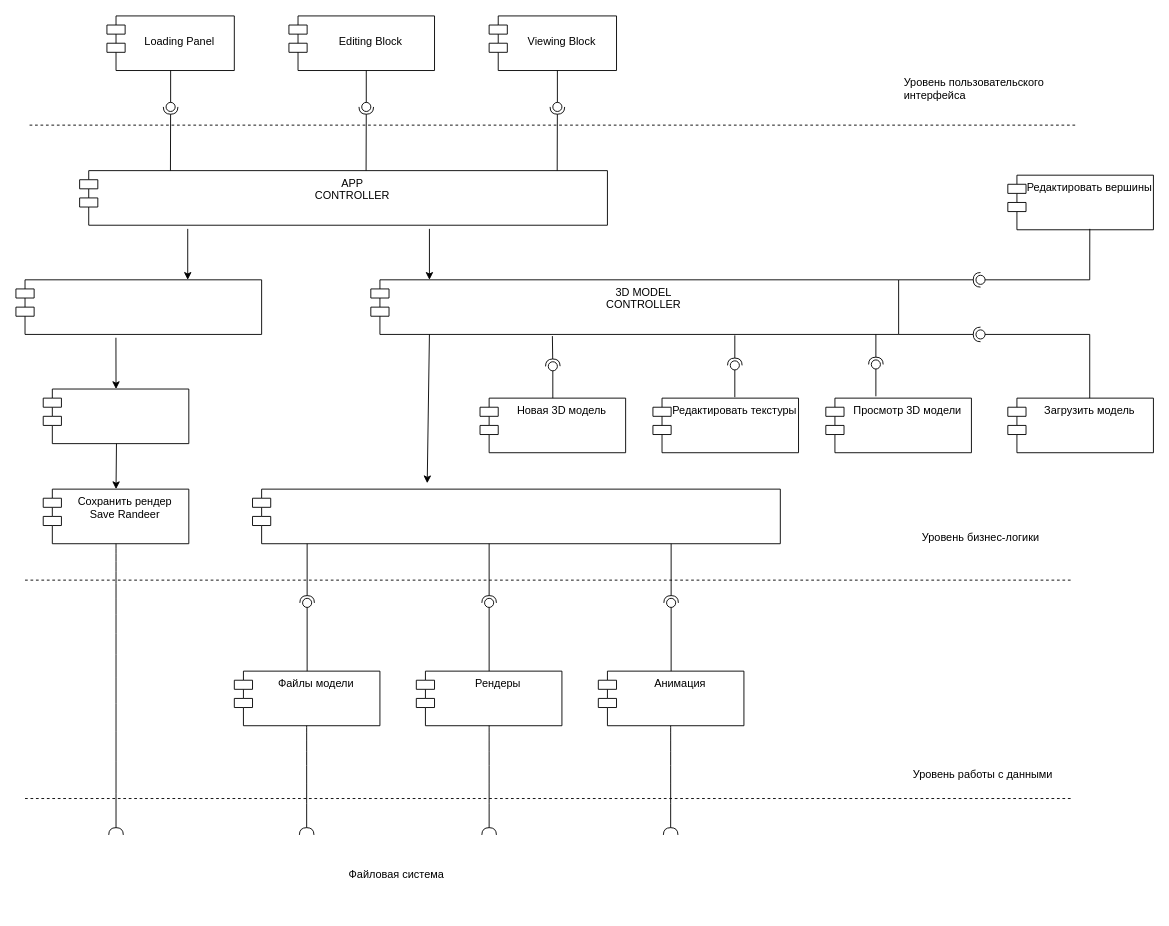
This 1169x926 diagram has some shape labels left out. Here are the shapes that lost their labels. From the top down, the centre of each, then its label:
the point at 138,306: RENDER CONTROLLER
the point at 115,416: Create Rander
the point at 516,516: FILE SYSTEM CONTROLLER
